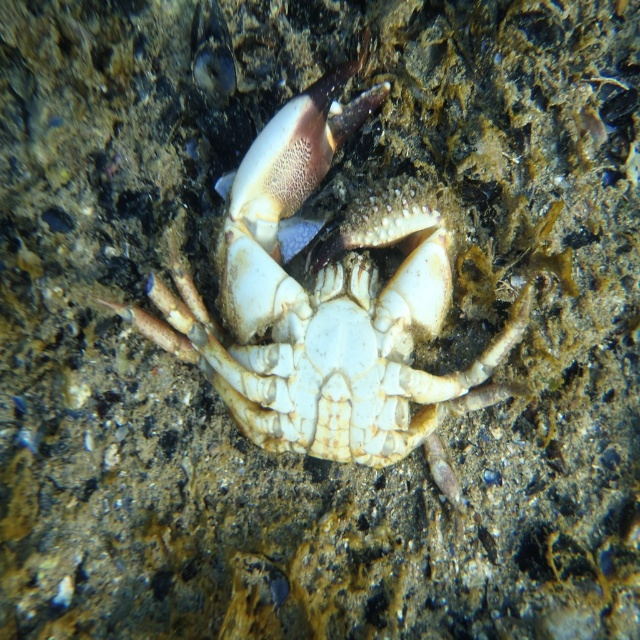Crab: (100, 21, 540, 522)
